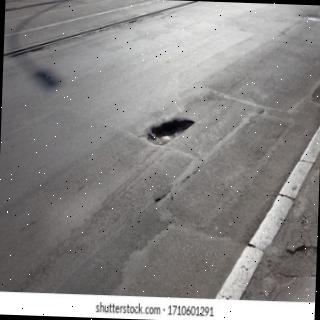pothole: (145, 119, 195, 146)
